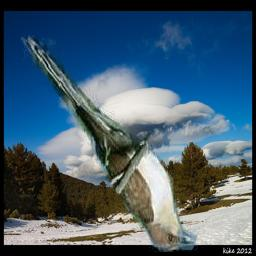Cuckoo: (21, 28, 199, 253)
